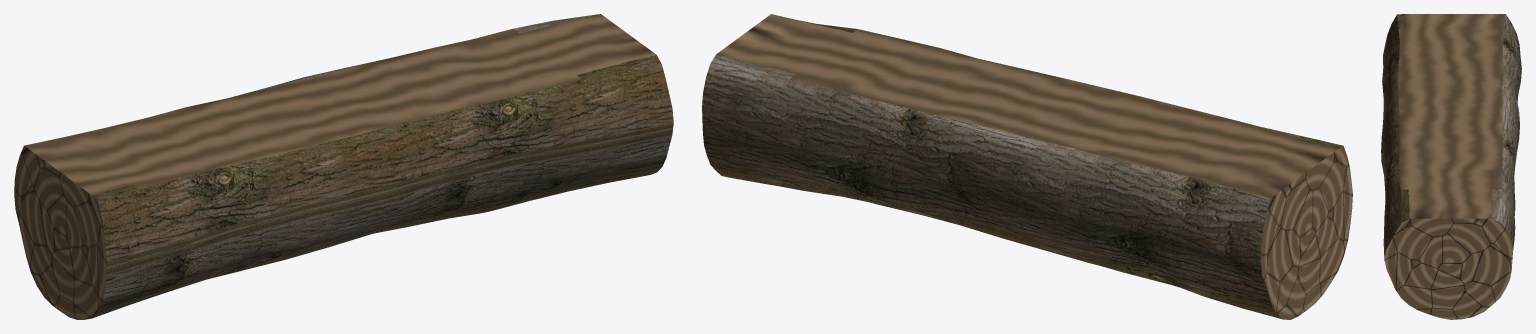
File: log_bench.glb
3 views of the same model, side by side, from view 1: azimuth 30°, elevation 25°; view 2: azimuth 150°, elevation 25°; view 3: azimuth 270°, elevation 25° (orthographic). The views are drawn at different scales.
Parts seen in each view (by area): view 1: log_bench; view 2: log_bench; view 3: log_bench.
Boxes of the visible parts, x1,y1,x2,y2 form: log_bench: (14,14,673,319); log_bench: (702,14,1352,319); log_bench: (1381,14,1521,319).
Size of the model in its own units: 1.8 by 0.4221 by 0.5234.
Materials: 1 (1 with a texture image).
